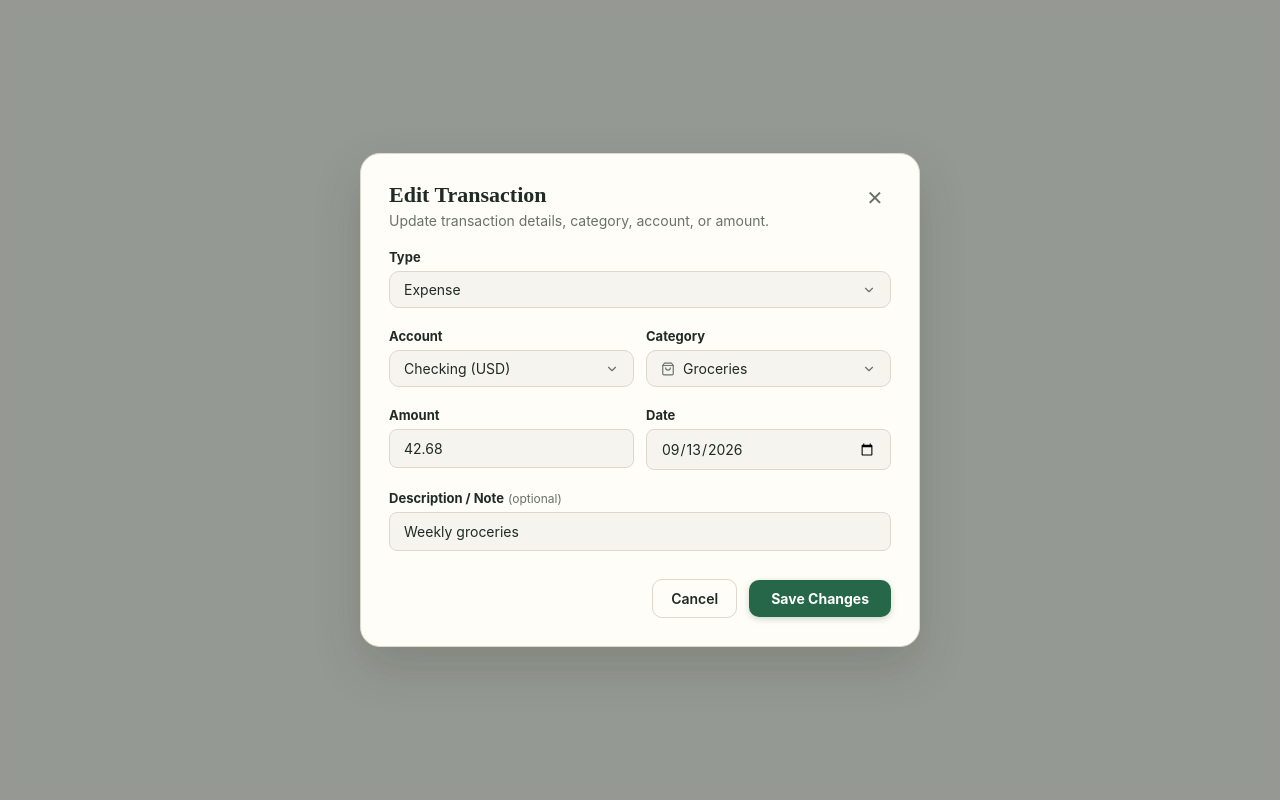
Test: EditFinancialRecordModal › validates that amount is positive
Replace the text in the field labelled "Amount" with "0". click: (512, 448)
box: 389,429 -> 634,468
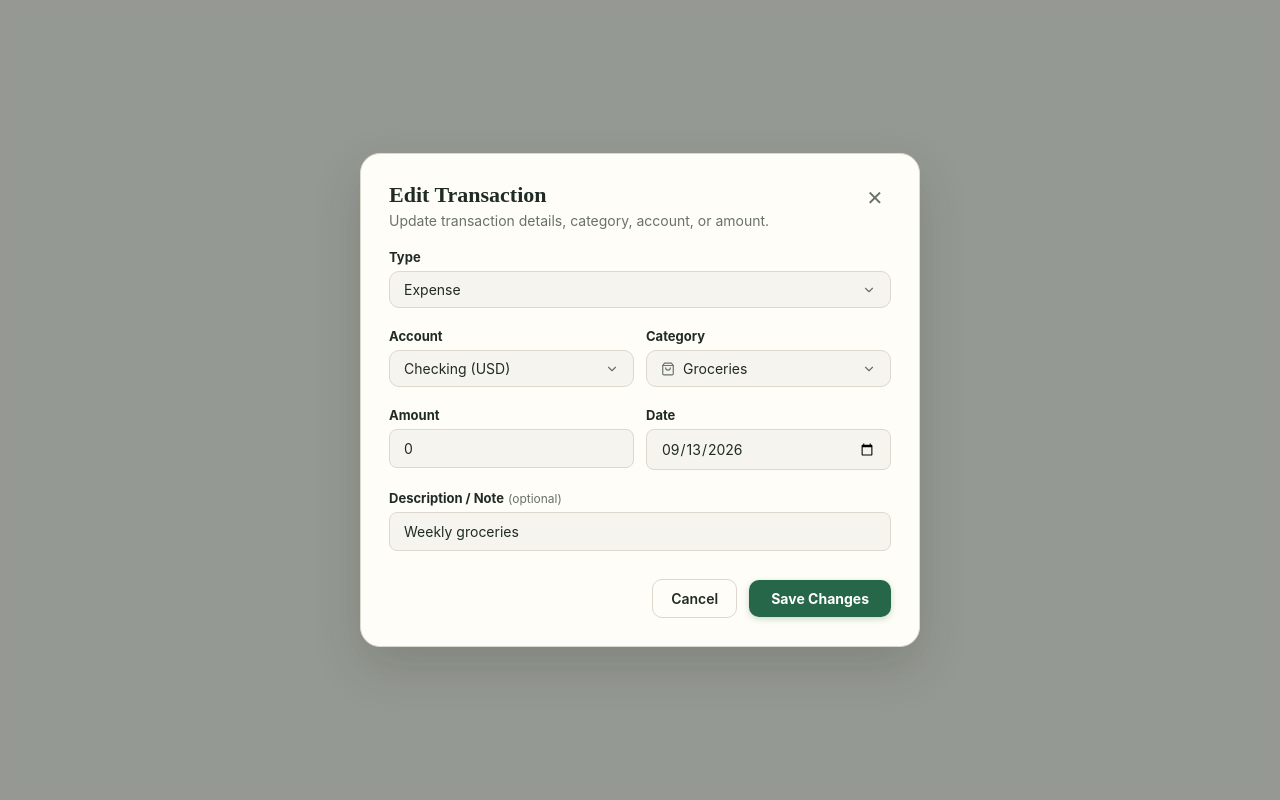
Click the button "Save Changes". click: (820, 598)
box: 749,580 -> 891,617
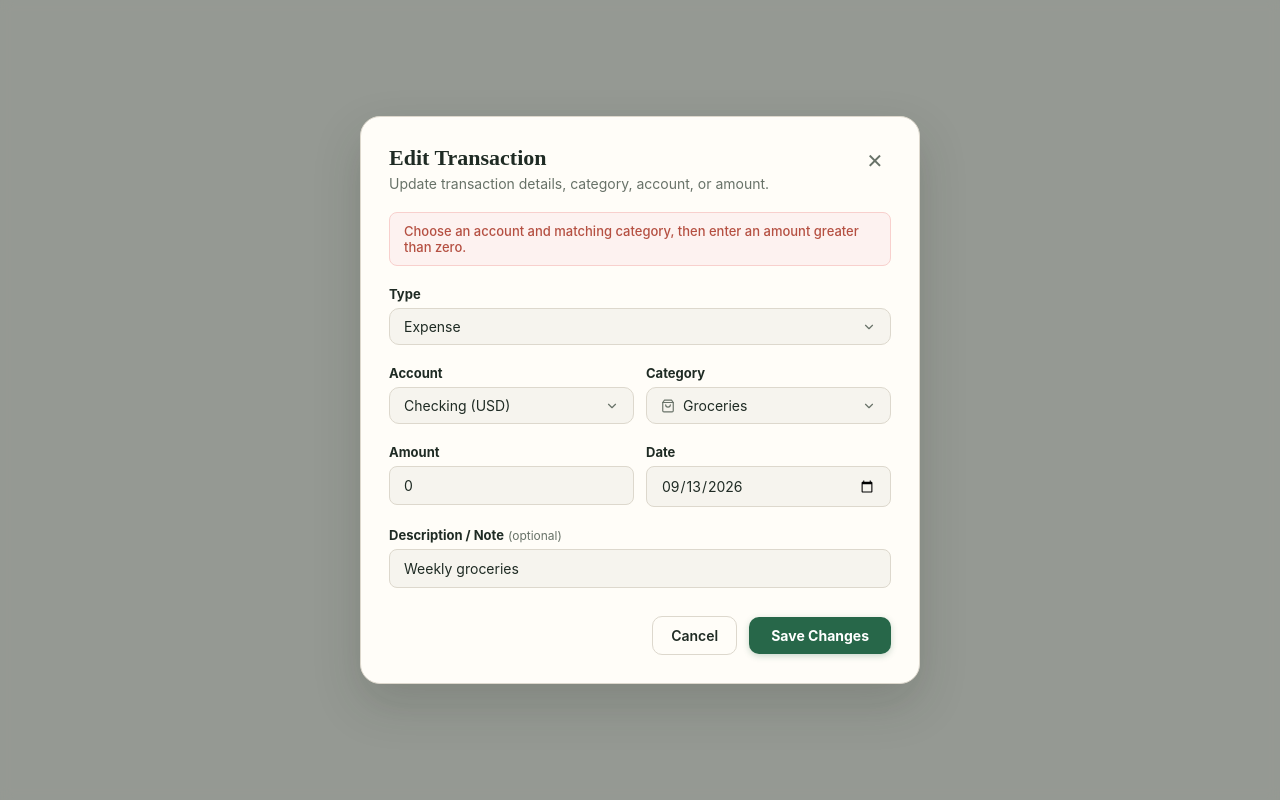
Check: the message shows "greater than zero", box 404,223 -> 859,255
